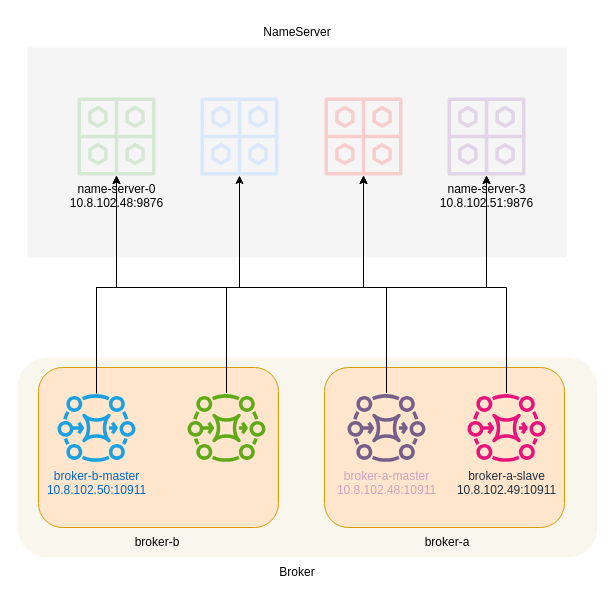
This 614x604 diagram has some shape labels left out. The shapes that lost their labels are listed below. From the top down, each one's centre as x and y in pixels, then its label:
(239,136): name-server-1 10.8.102.49:9876
(363,136): name-server-2 10.8.102.50:9876
(226,427): broker-b-slave 10.8.102.51:10911
